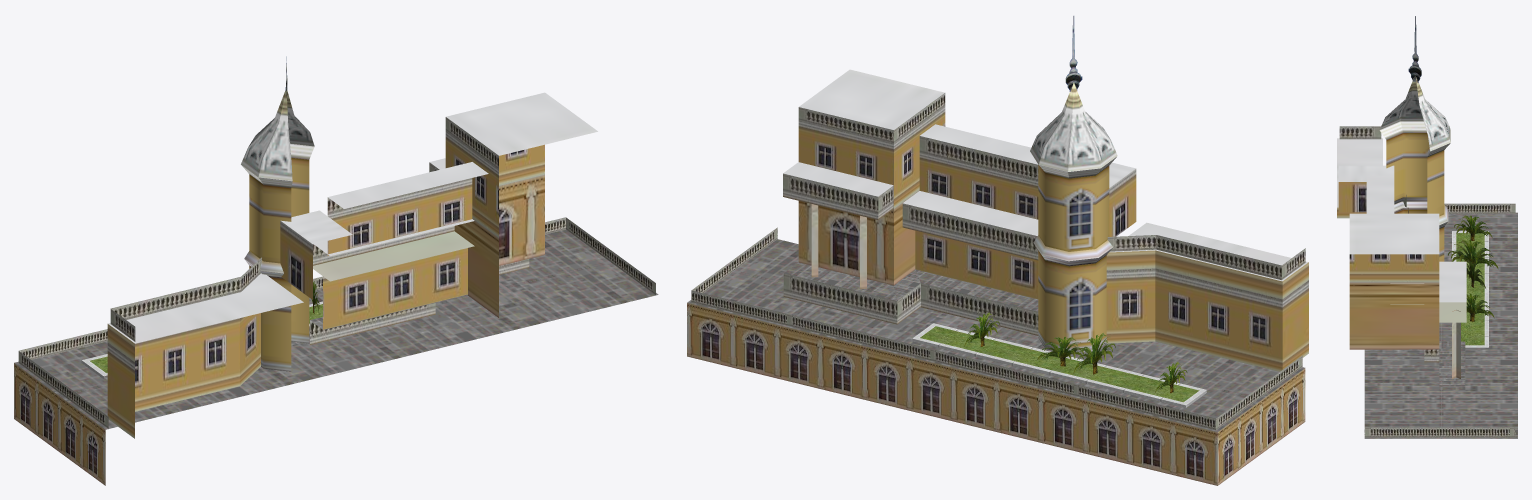
The model's file is fangzi11.FBX.
The picture shows the model from 3 angles, left to right: view 1: azimuth 30°, elevation 25°; view 2: azimuth 150°, elevation 25°; view 3: azimuth 270°, elevation 25°; orthographic projection. The views are drawn at different scales.
Visible parts, largest first — view 1: fangzi11; view 2: fangzi11; view 3: fangzi11.
Boxes of the visible parts, x1,y1,x2,y2 form: fangzi11: [14, 56, 658, 485]; fangzi11: [687, 15, 1308, 485]; fangzi11: [1337, 16, 1517, 438].
Bounding box in the file's own units: 76.68 × 52.18 × 25.93.
4 materials, 4 textured.
